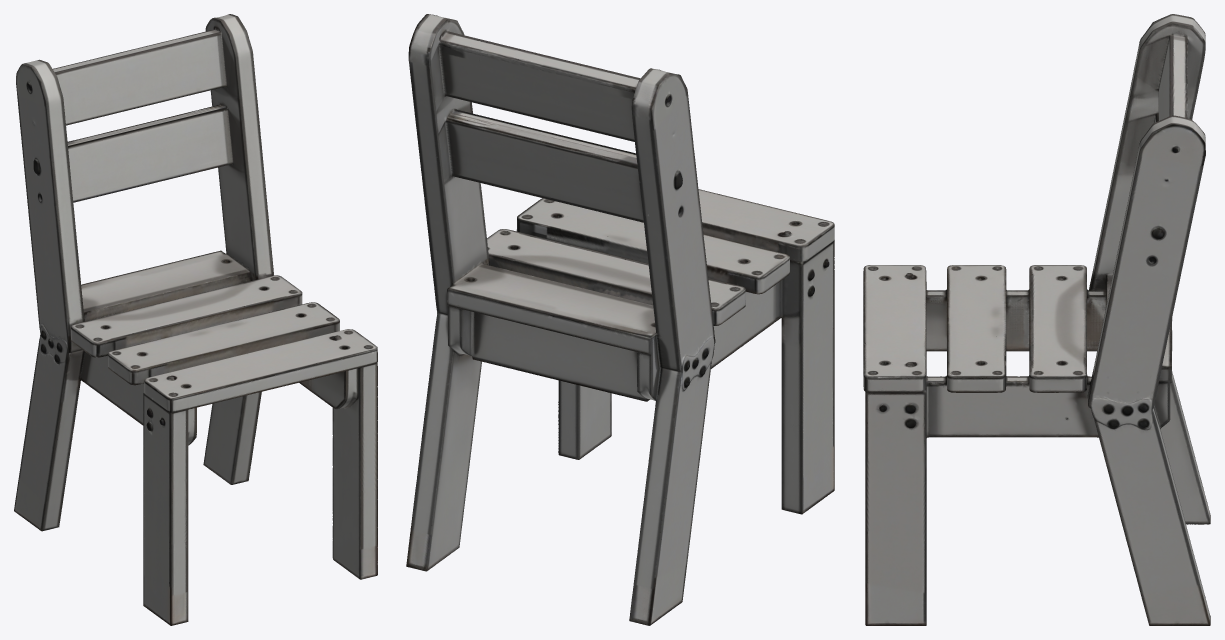
The model's file is Meshy_AI_Traditional_Side_Chai_0324204109_texture.glb.
The picture shows the model from 3 angles, left to right: view 1: azimuth 30°, elevation 25°; view 2: azimuth 150°, elevation 25°; view 3: azimuth 270°, elevation 25°; orthographic projection. The views are drawn at different scales.
Parts seen in each view (by area): view 1: Mesh_0; view 2: Mesh_0; view 3: Mesh_0.
Boxes of the visible parts, box(x1,y1,x2,y2) form: Mesh_0: box(14, 14, 377, 625); Mesh_0: box(406, 14, 834, 625); Mesh_0: box(863, 14, 1210, 625).
Size of the model in its own units: 0.3808 by 0.78 by 0.4893.
1 material, 1 textured.
